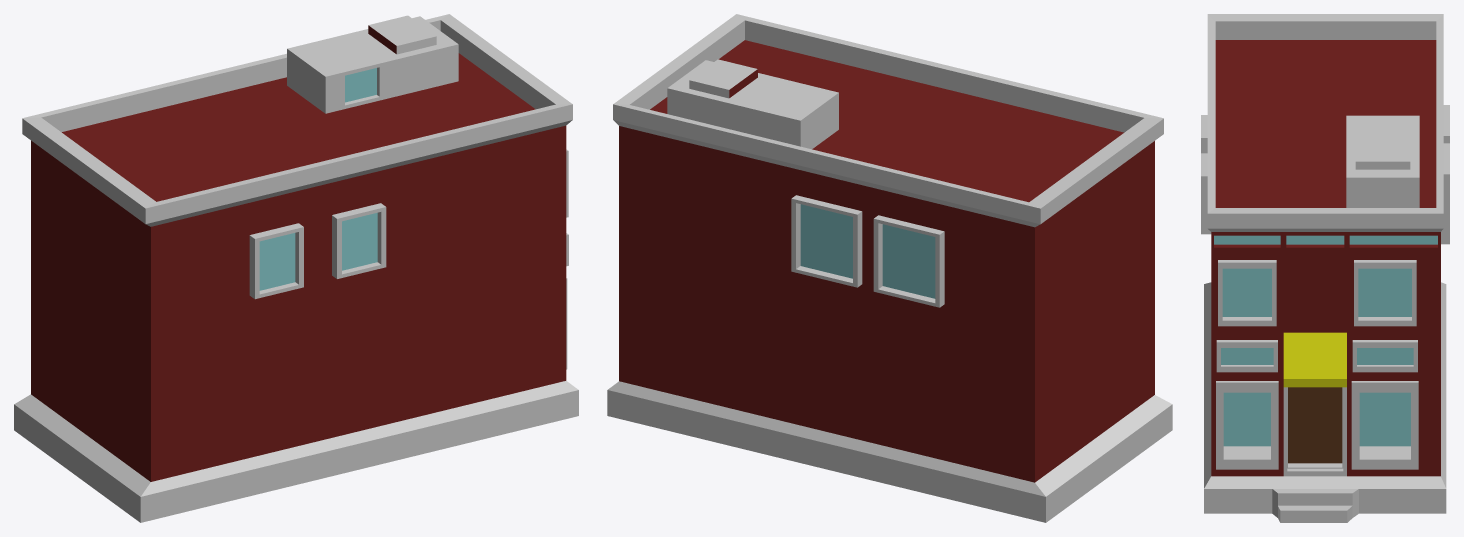
File: building.fbx
3 views of the same model, side by side, from view 1: azimuth 30°, elevation 25°; view 2: azimuth 150°, elevation 25°; view 3: azimuth 270°, elevation 25° (orthographic). The views are drawn at different scales.
Visible parts, largest first — view 1: Cube; view 2: Cube; view 3: Cube.
Part boxes in pixels (x1,y1,x2,y2): Cube: (14,14,578,522); Cube: (607,14,1172,522); Cube: (1201,14,1449,522).
Bounding box in the file's own units: 1543 × 1086 × 758.
